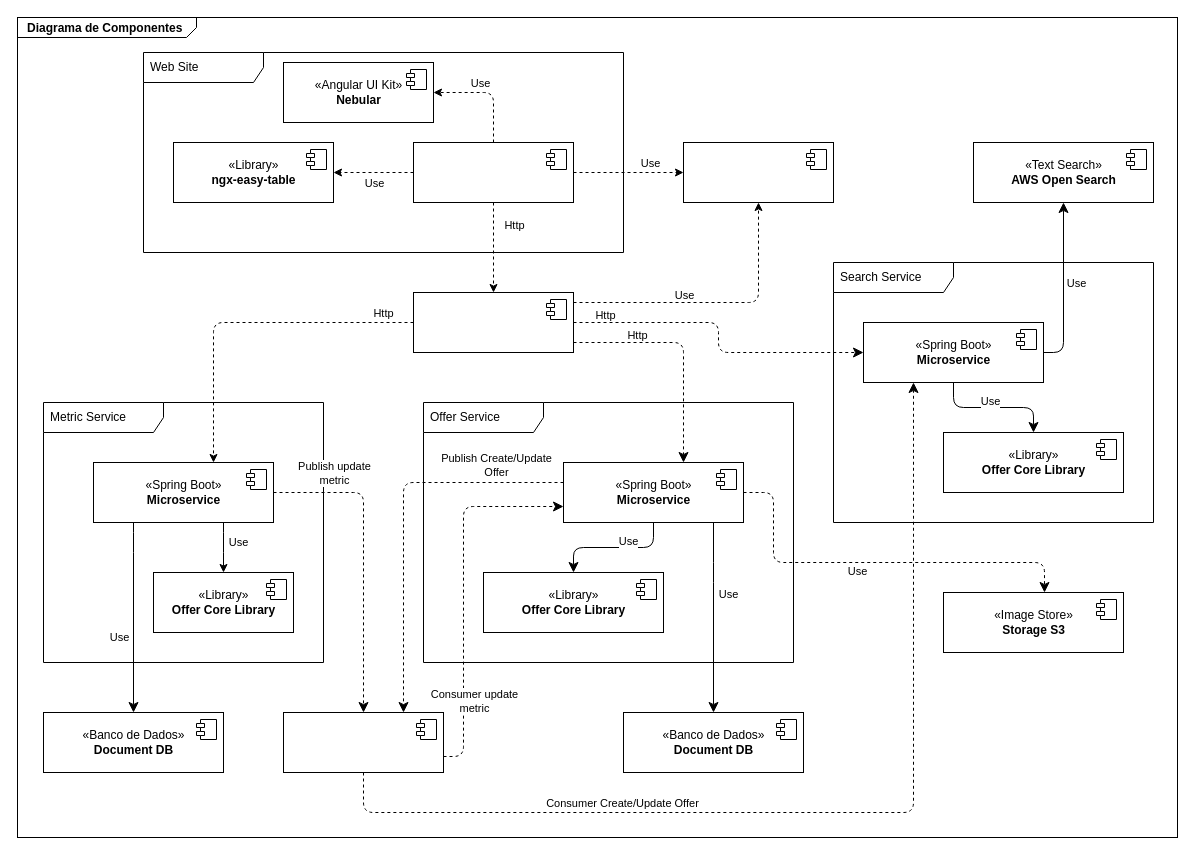
Some shapes in this 1195 by 855 pixel diagram are drawn without their labels. The shapes that lost their labels are listed below. From the top down, each one's centre as x and y in pixels, then its label:
At (x=493, y=172): "«Angular» SPA".
At (x=758, y=172): "«OAuth e JWT» AWS Cognito".
At (x=493, y=322): "«Web API» API Gateway".
At (x=363, y=742): "«Message Broker» Amazon MSK".
